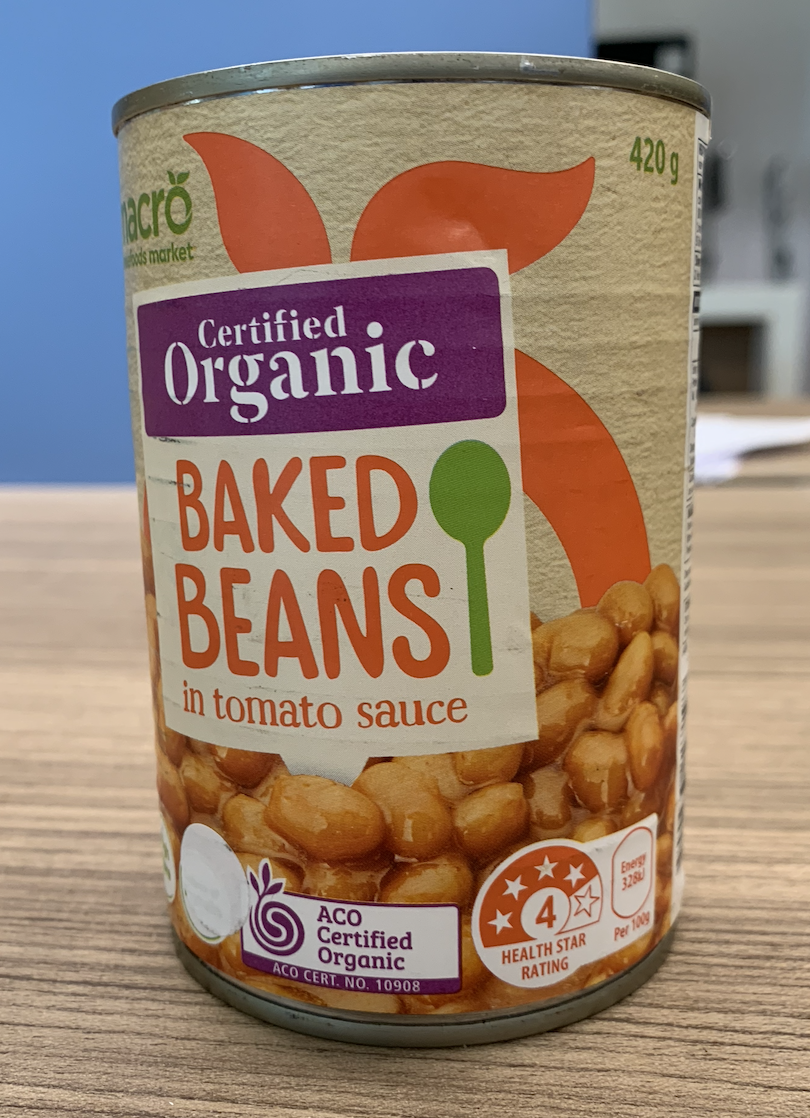Baked beans_400-499g: (158, 108, 668, 988)
